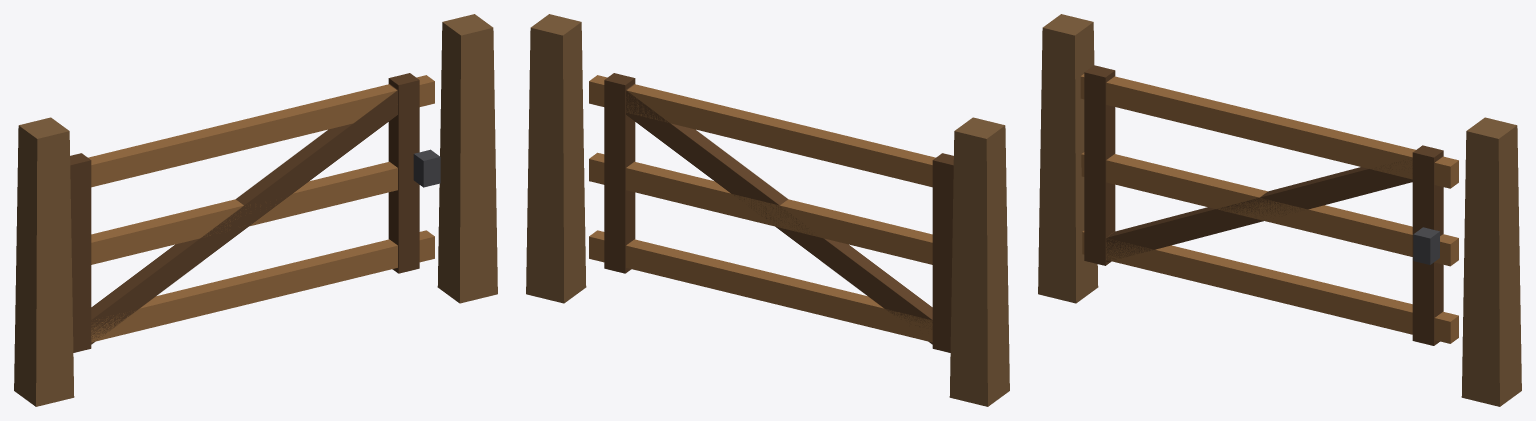
File: gate_rail.glb
3 views of the same model, side by side, from view 1: azimuth 30°, elevation 25°; view 2: azimuth 150°, elevation 25°; view 3: azimuth 330°, elevation 25° (orthographic).
Parts seen in each view (by area): view 1: gate_rail; view 2: gate_rail; view 3: gate_rail.
Part boxes in pixels (x1,y1,x2,y2): gate_rail: (14,14,497,406); gate_rail: (526,14,1009,406); gate_rail: (1038,14,1521,406).
Size of what is drawn, in the model's own units: 2.18 by 1.2 by 0.23.
